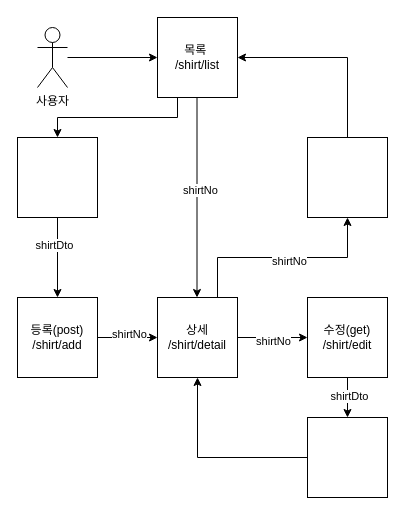
The diagram is 405 pixels wide and 515 high, and some of its shapes have lost their labels. The centre of each missing label's shape, as x and y in pixels:
등록(get) /shirt/add: the point at 57,177
삭제 /shirt/delete: the point at 347,177
수정(post) /shirt/edit: the point at 347,457
